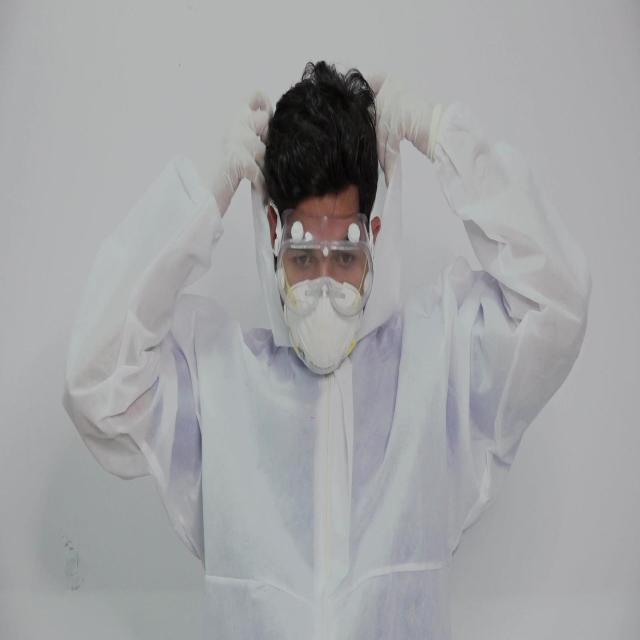Coverall: (63, 103, 591, 640)
Gloves: (367, 64, 438, 189), (206, 87, 268, 221)
Goggles: (274, 209, 376, 319)
Mask: (284, 275, 364, 378)
